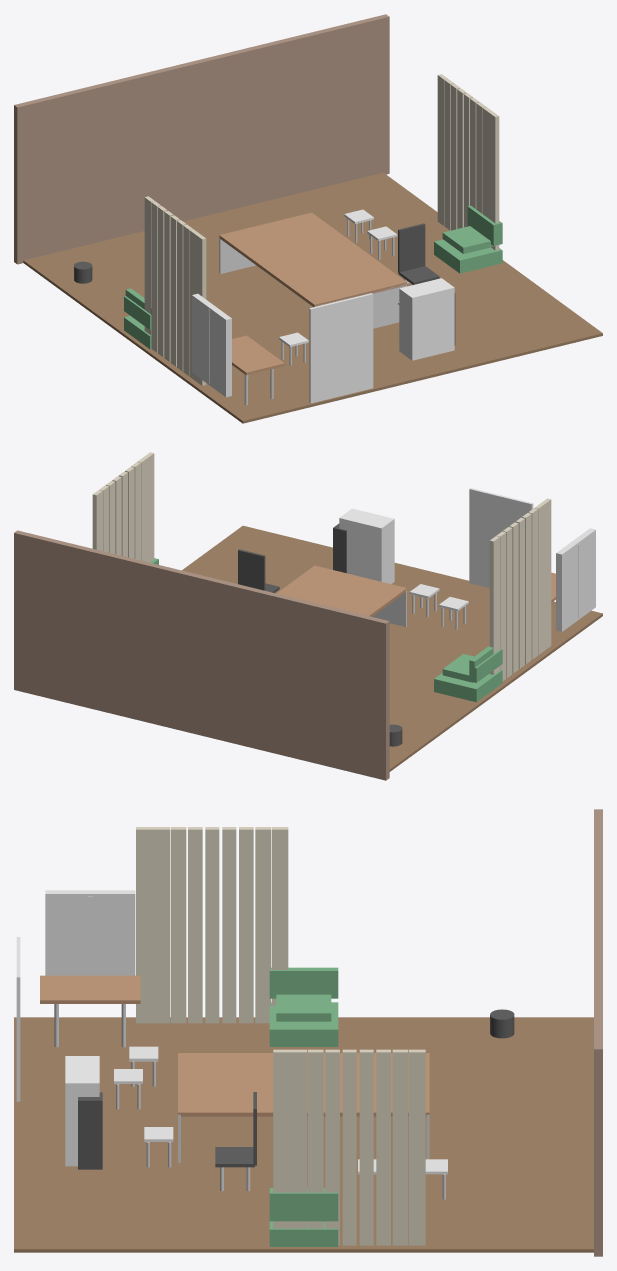
3 views of the same model, one above another, from view 1: azimuth 30°, elevation 25°; view 2: azimuth 150°, elevation 25°; view 3: azimuth 270°, elevation 25° (orthographic). The views are drawn at different scales.
Visible parts, largest first — view 1: Wall_Front, Floor, Table_Top, Whiteboard, Cabinet_High, Window_Frame_Outer, Sofa_Base.001, Curtain_Right_fold_0, Small_Table_Top, OfficeChair_Back, Curtain_Right_fold_8, Curtain_Left_fold_6 (+19 smaller); view 2: Wall_Front, Floor, Table_Top, Cabinet_High, Window_Frame_Outer, Whiteboard, Sofa_Base, Curtain_Left_fold_8, Curtain_Left_fold_0, Curtain_Left_fold_2, Curtain_Left_fold_3, Curtain_Left_fold_1 (+17 smaller); view 3: Floor, Table_Top, Window_Frame_Outer, Wall_Front, Curtain_Left_fold_0, Curtain_Left_fold_1, Curtain_Right_fold_8, Curtain_Left_fold_2, Curtain_Right_fold_7, Curtain_Left_fold_7, Curtain_Left_fold_3, Curtain_Left_fold_6 (+22 smaller).
Boxes of the visible parts, <box> form: Wall_Front: <box>14,14,389,264</box>; Floor: <box>23,172,602,423</box>; Table_Top: <box>219,212,406,307</box>; Whiteboard: <box>309,293,373,403</box>; Cabinet_High: <box>399,278,454,360</box>; Window_Frame_Outer: <box>192,293,231,397</box>; Sofa_Base.001: <box>434,239,502,273</box>; Curtain_Right_fold_0: <box>488,111,499,250</box>; Small_Table_Top: <box>232,335,284,375</box>; OfficeChair_Back: <box>398,223,425,272</box>; Curtain_Right_fold_8: <box>437,74,447,225</box>; Curtain_Left_fold_6: <box>157,206,167,357</box>; Wall_Front: <box>14,530,389,780</box>; Floor: <box>182,525,602,771</box>; Table_Top: <box>276,565,406,616</box>; Cabinet_High: <box>339,508,394,583</box>; Window_Frame_Outer: <box>556,528,595,631</box>; Whiteboard: <box>469,488,533,587</box>; Sofa_Base: <box>434,670,502,702</box>; Curtain_Left_fold_8: <box>489,536,499,674</box>; Curtain_Left_fold_0: <box>541,498,551,650</box>; Curtain_Left_fold_2: <box>528,508,538,659</box>; Curtain_Left_fold_3: <box>522,513,531,664</box>; Curtain_Left_fold_1: <box>535,503,544,654</box>; Floor: <box>14,1017,593,1252</box>; Table_Top: <box>178,1053,429,1116</box>; Window_Frame_Outer: <box>45,890,135,975</box>; Wall_Front: <box>594,809,602,1256</box>; Curtain_Left_fold_0: <box>136,827,153,1023</box>; Curtain_Left_fold_1: <box>153,827,169,1023</box>; Curtain_Right_fold_8: <box>409,1049,425,1245</box>; Curtain_Left_fold_2: <box>170,827,186,1023</box>; Curtain_Right_fold_7: <box>392,1049,408,1245</box>; Curtain_Left_fold_7: <box>255,827,270,1023</box>; Curtain_Left_fold_3: <box>188,827,202,1023</box>; Curtain_Left_fold_6: <box>239,827,253,1023</box>.
Bounding box in the file's own units: 7.44 × 3 × 7.72.
